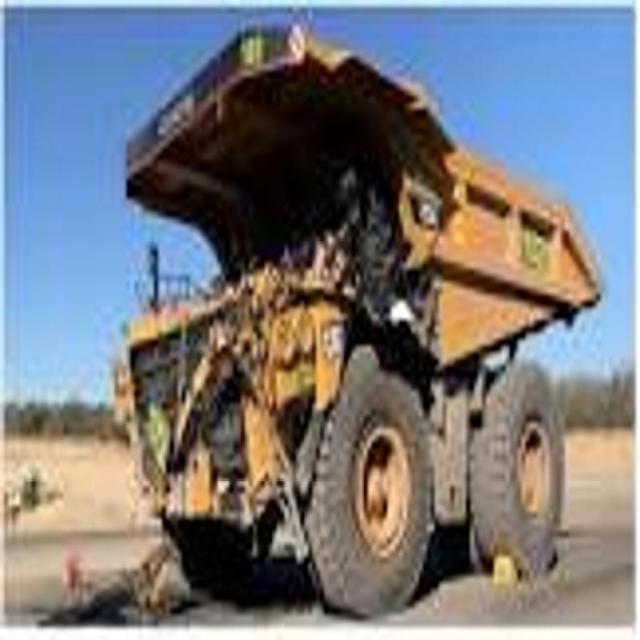dump_truck: (125, 6, 604, 616)
